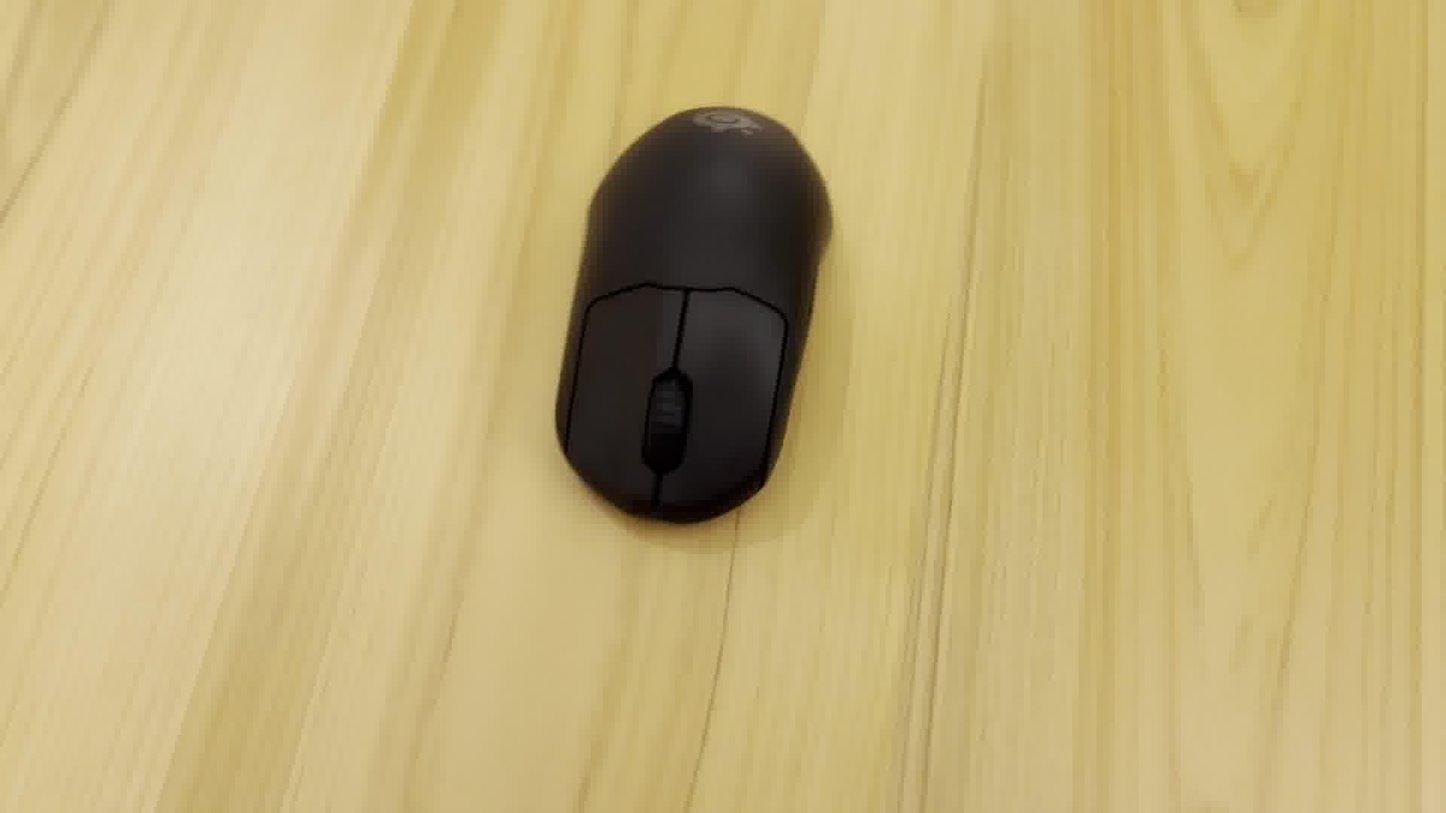mouse: (546, 93, 847, 538)
